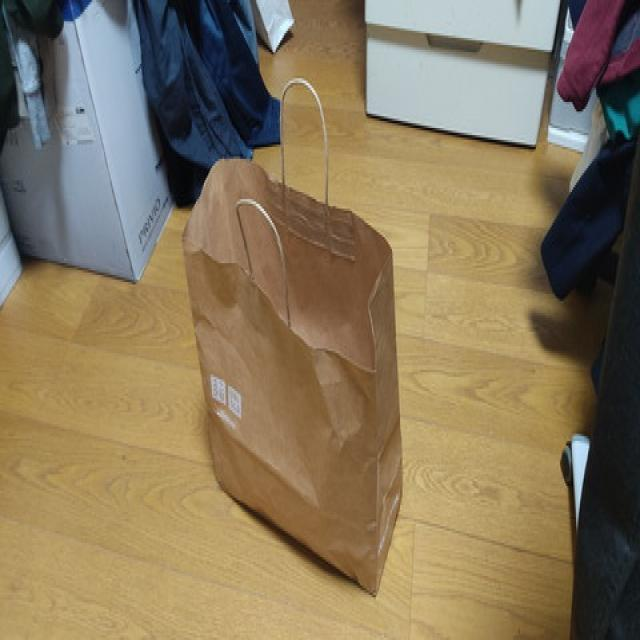paper bag: (179, 69, 405, 599)
